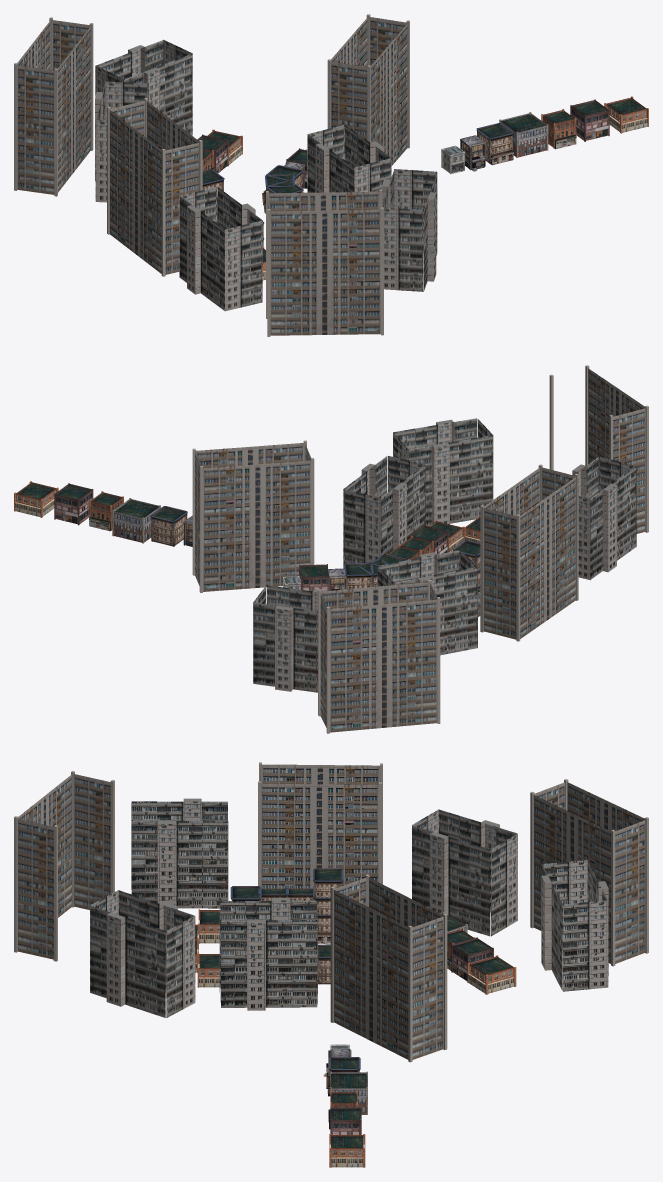
File: torres.glb
The picture shows the model from 3 angles, top to bottom: view 1: azimuth 30°, elevation 25°; view 2: azimuth 150°, elevation 25°; view 3: azimuth 270°, elevation 25°; orthographic projection. The views are drawn at different scales.
Parts seen in each view (by area): view 1: Plane.030, Plane.027, Plane.029, Plane.028, Cube.016, Cube.019, Cube.013, Cube.014, Cube.012, Cube.002, Cube.001, Plane.001 (+7 smaller); view 2: Plane.029, Plane.028, Plane.027, Cube.019, Cube.014, Cube.013, Cube.016, Plane.030, Cube.012, Cube.002, Cube.001, Plane.001 (+5 smaller); view 3: Plane.028, Plane.027, Plane.030, Plane.029, Cube.019, Cube.012, Cube.014, Cube.016, Cube.013, Cube.006, Cube.003, Cube.005 (+6 smaller).
Part boxes in pixels (bbox=[...]): Plane.030: bbox=[266, 189, 383, 336]; Plane.027: bbox=[107, 98, 202, 276]; Plane.029: bbox=[14, 17, 93, 196]; Plane.028: bbox=[327, 14, 409, 165]; Cube.016: bbox=[179, 187, 262, 311]; Cube.019: bbox=[382, 169, 437, 291]; Cube.013: bbox=[95, 39, 192, 135]; Cube.014: bbox=[307, 125, 391, 192]; Cube.012: bbox=[95, 81, 148, 202]; Cube.002: bbox=[499, 112, 548, 157]; Cube.001: bbox=[570, 99, 609, 141]; Plane.001: bbox=[476, 123, 514, 165]; Plane.029: bbox=[318, 579, 440, 733]; Plane.028: bbox=[192, 440, 314, 592]; Plane.027: bbox=[480, 464, 578, 641]; Cube.019: bbox=[393, 418, 493, 526]; Cube.014: bbox=[343, 456, 425, 568]; Cube.013: bbox=[253, 585, 327, 692]; Cube.016: bbox=[572, 456, 636, 580]; Plane.030: bbox=[549, 365, 648, 533]; Cube.012: bbox=[377, 550, 477, 655]; Cube.002: bbox=[112, 498, 160, 543]; Cube.001: bbox=[54, 483, 93, 525]; Plane.001: bbox=[151, 506, 187, 546]; Plane.028: bbox=[330, 874, 447, 1062]; Plane.027: bbox=[258, 762, 382, 888]; Plane.030: bbox=[14, 771, 114, 961]; Plane.029: bbox=[530, 779, 648, 966]; Cube.019: bbox=[90, 890, 195, 1017]; Cube.012: bbox=[412, 809, 517, 936]; Cube.014: bbox=[219, 898, 317, 1010]; Cube.016: bbox=[131, 798, 228, 908]; Cube.013: bbox=[541, 860, 608, 991]; Cube.006: bbox=[467, 955, 516, 994]; Cube.003: bbox=[329, 1134, 365, 1167]; Cube.005: bbox=[451, 937, 493, 980].
Bounding box in the file's own units: 53.72 × 14.18 × 52.9.
10 materials, 9 textured.
